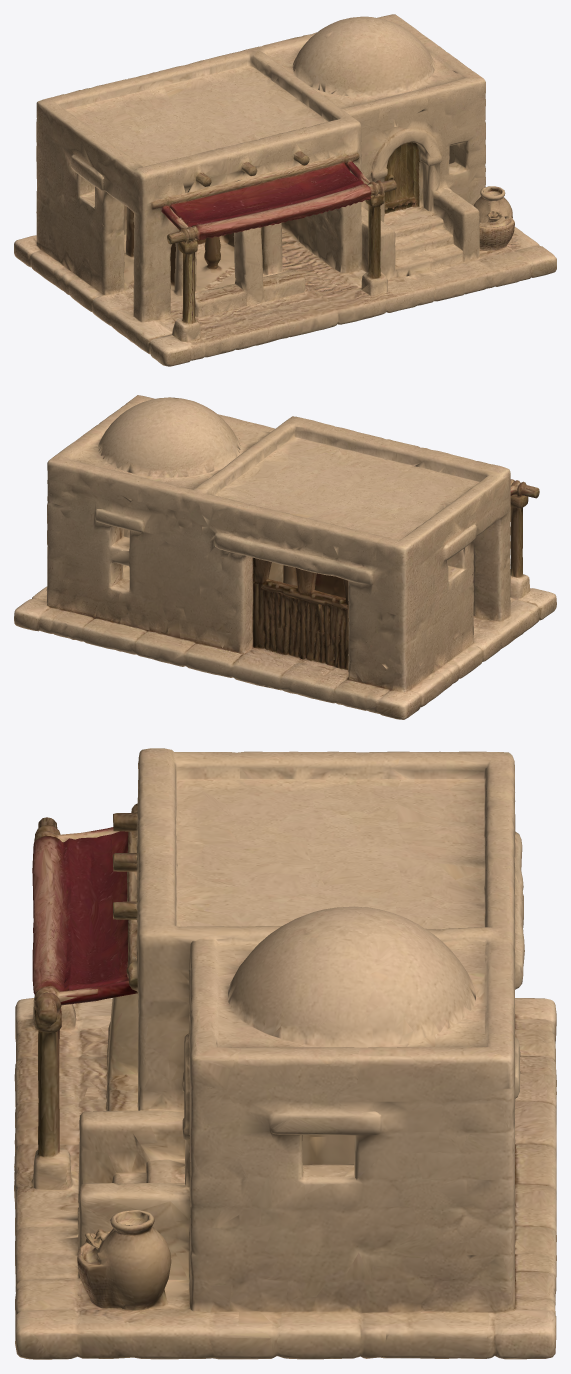
The model's file is Desert_Adobe_Courtyar.glb.
3 views of the same model, one above another, from view 1: azimuth 30°, elevation 25°; view 2: azimuth 150°, elevation 25°; view 3: azimuth 270°, elevation 25° (orthographic). The views are drawn at different scales.
Parts seen in each view (by area): view 1: Desert_Adobe_Courtyar; view 2: Desert_Adobe_Courtyar; view 3: Desert_Adobe_Courtyar.
Boxes of the visible parts, x1,y1,x2,y2 form: Desert_Adobe_Courtyar: [14, 14, 556, 366]; Desert_Adobe_Courtyar: [14, 395, 556, 719]; Desert_Adobe_Courtyar: [14, 748, 556, 1359].
Size of the model in its own units: 1.9 by 0.9434 by 1.29.
1 material, 1 textured.
